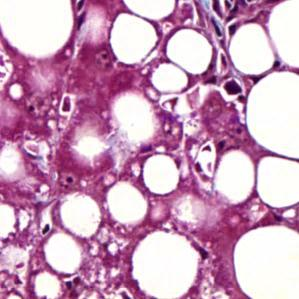steatosis: (111, 11, 160, 68), (167, 26, 216, 76), (106, 178, 149, 230), (142, 156, 181, 196)
